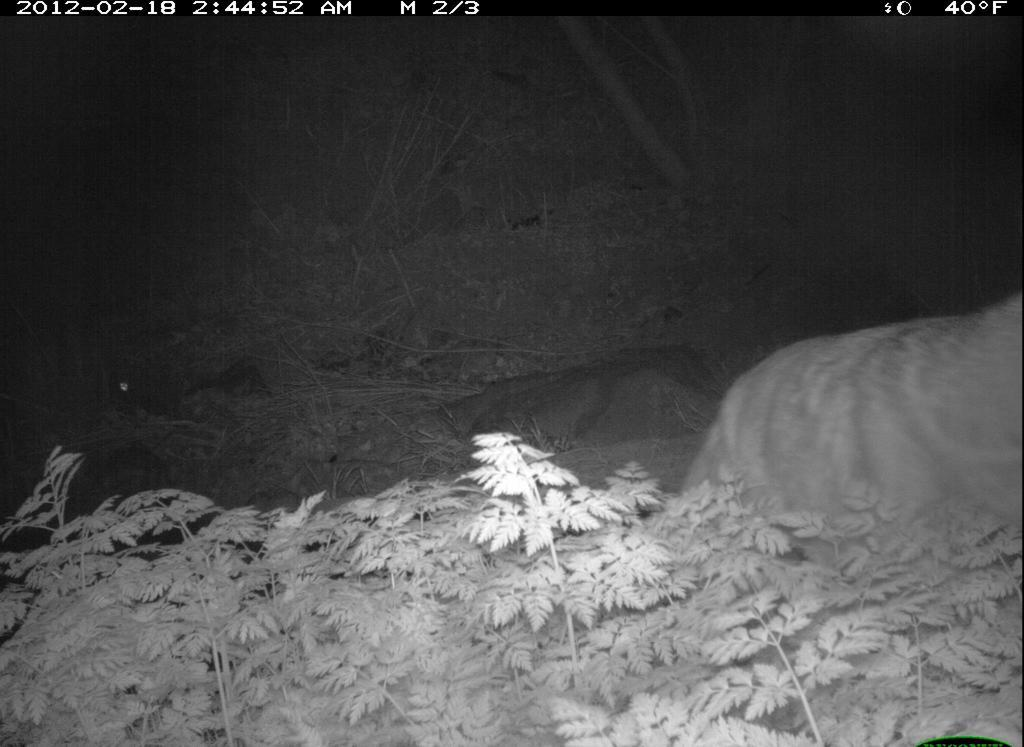coyote: (679, 286, 1022, 557)
